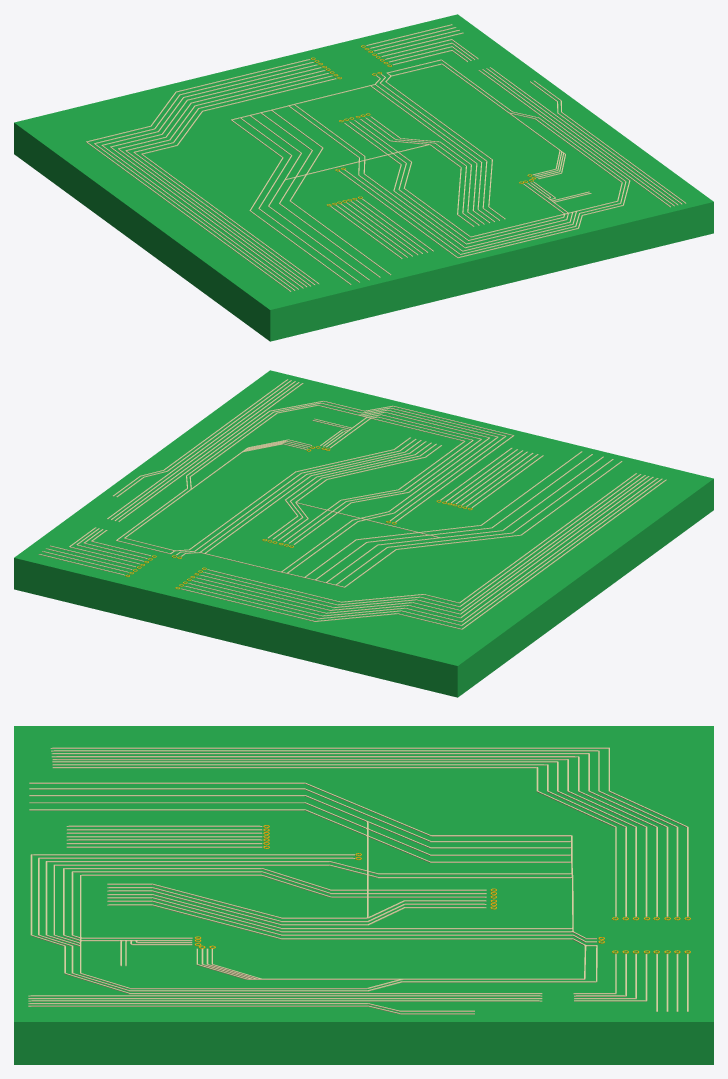
Rendered from Mother Board.fbx.
3 views of the same model, one above another, from view 1: azimuth 30°, elevation 25°; view 2: azimuth 150°, elevation 25°; view 3: azimuth 270°, elevation 25° (orthographic). The views are drawn at different scales.
Visible parts, largest first — view 1: Mother Board; view 2: Mother Board; view 3: Mother Board.
Part boxes in pixels (x1,y1,x2,y2): Mother Board: [14, 14, 713, 341]; Mother Board: [14, 370, 713, 697]; Mother Board: [14, 726, 713, 1064].
Bounding box in the file's own units: 200 × 13.84 × 200.
